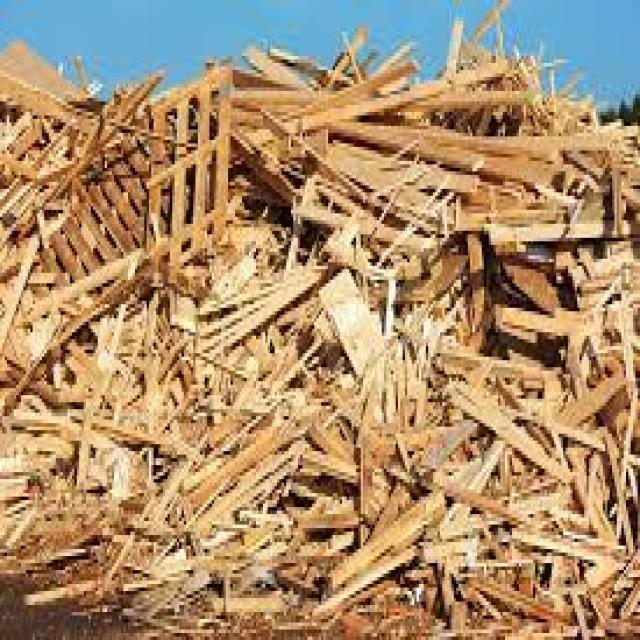green waste: (2, 24, 639, 640)
